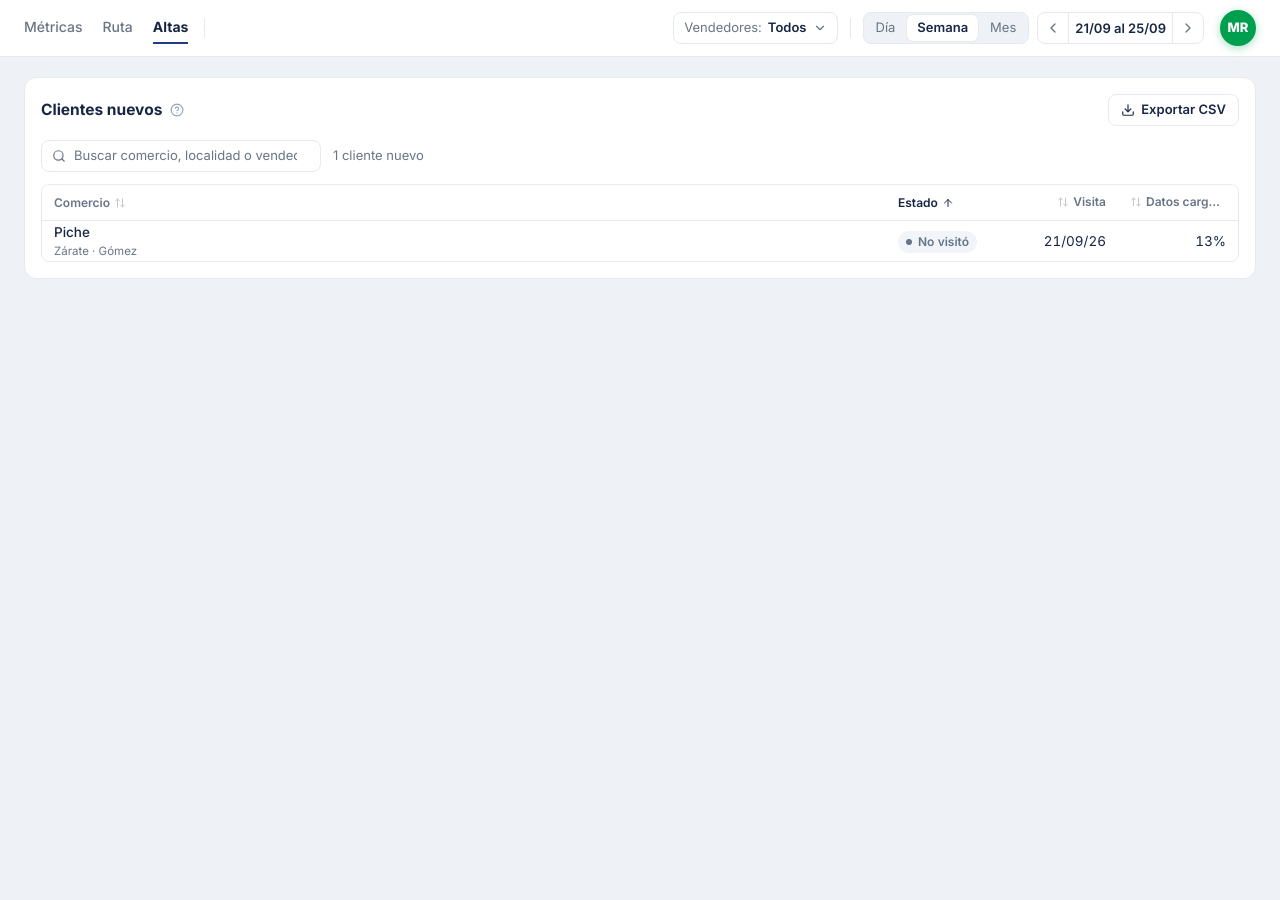
Test: lista las altas del rango y abre el detalle al tocar una fila
The width and height of the screenshot is (1280, 900).
Click the text "Piche" at (72, 232), box [54,224,90,240]
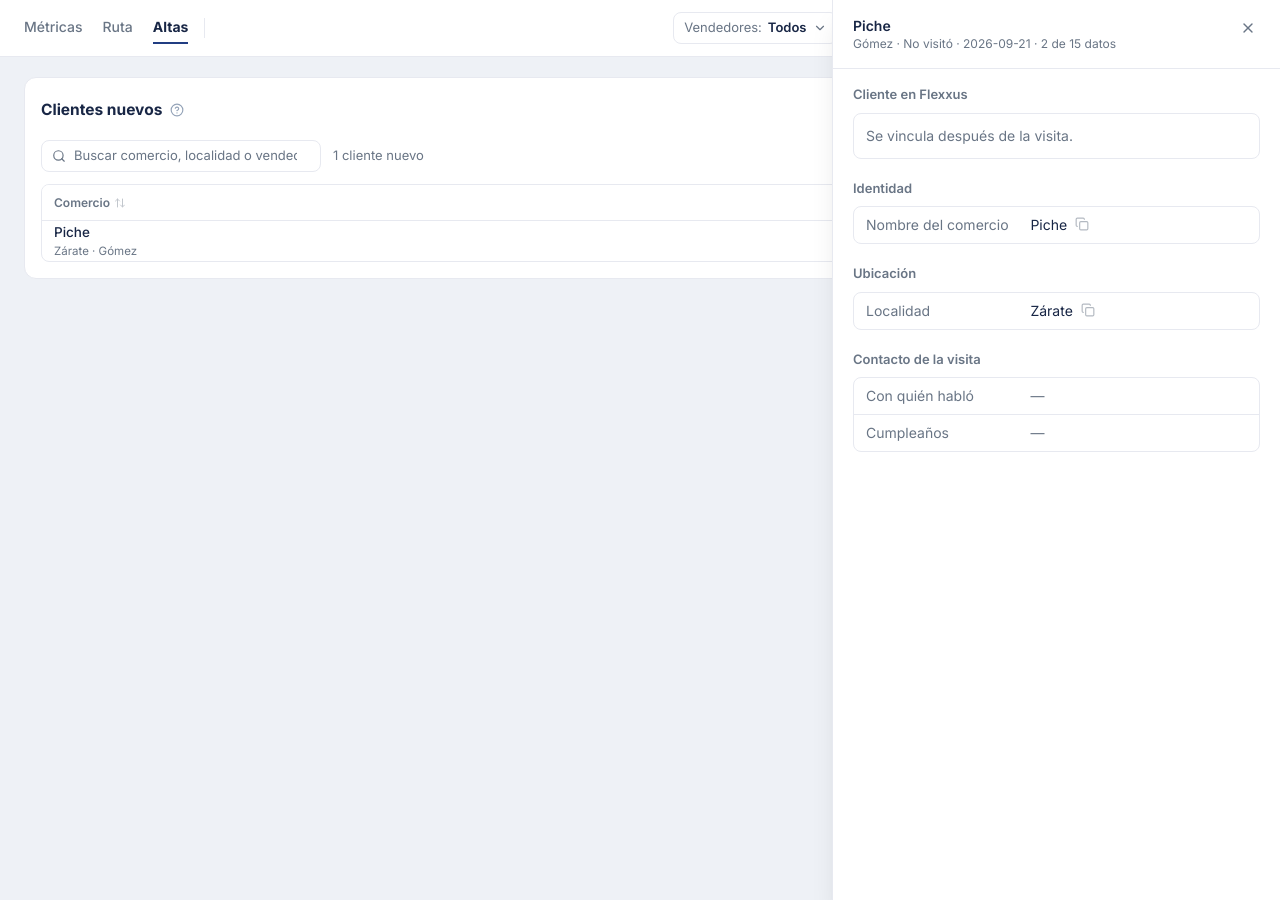
Check: the heading "Identidad" is shown, box [853,180,912,196]
